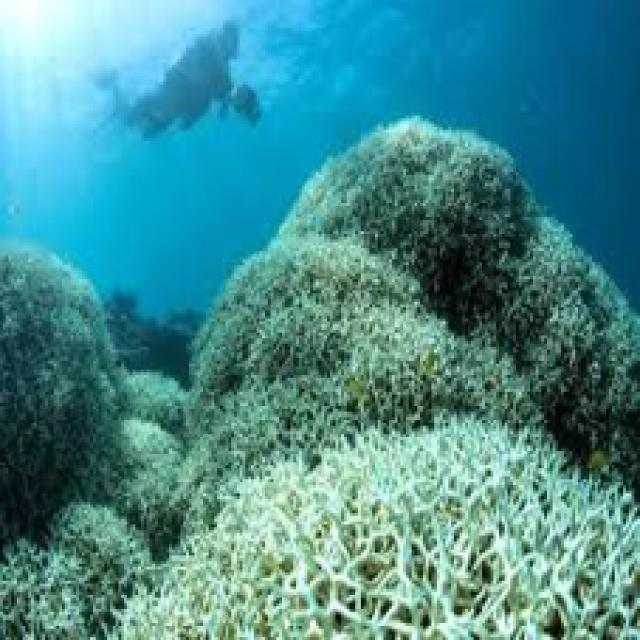Bleached: (326, 426, 640, 640), (191, 238, 420, 464), (270, 121, 528, 312), (120, 466, 326, 640), (1, 254, 112, 541), (503, 224, 640, 424), (384, 305, 541, 440), (52, 498, 155, 640), (99, 419, 195, 529), (1, 541, 77, 640), (106, 375, 192, 431)
